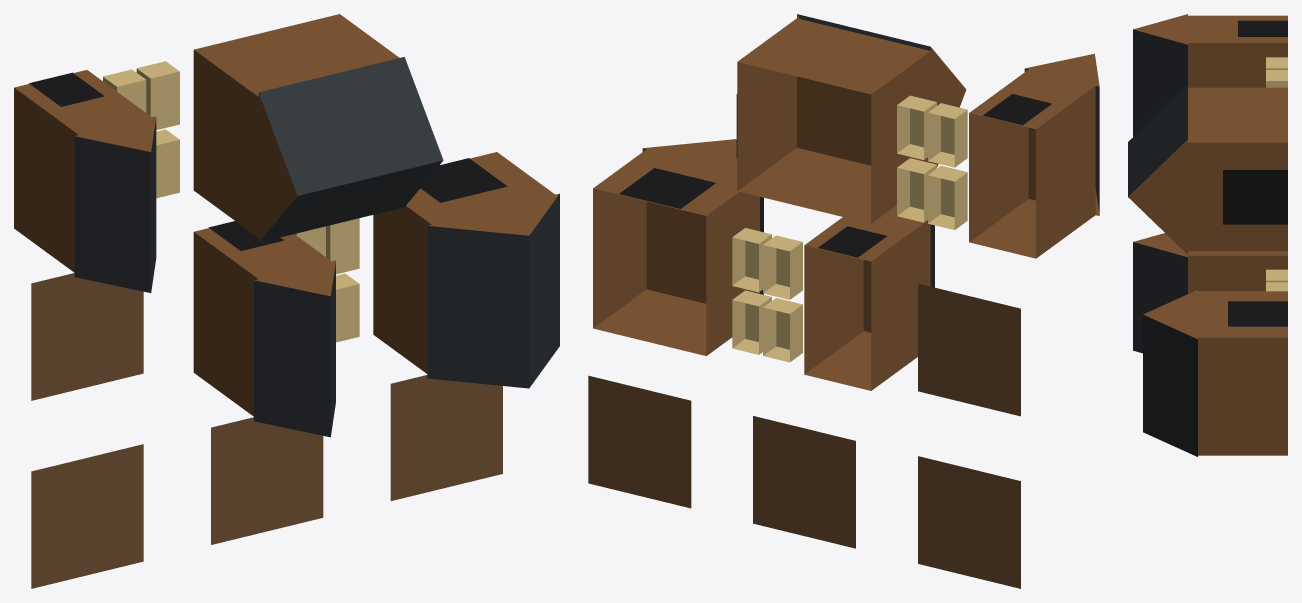
The model's file is construction_2.glb.
The picture shows the model from 3 angles, left to right: view 1: azimuth 30°, elevation 25°; view 2: azimuth 150°, elevation 25°; view 3: azimuth 270°, elevation 25°; orthographic projection. The views are drawn at different scales.
Parts seen in each view (by area): view 1: t12_g11.002, t21_g13.002, t02_g12.002, t11_g12.002, t00_g15.002, t20_g14.002, t01_g15.002, t10_g14.002; view 2: t12_g11.002, t02_g12.002, t21_g13.002, t11_g12.002, t20_g14.002, t00_g15.002, t01_g15.002, t10_g14.002; view 3: t12_g11.002, t21_g13.002, t02_g12.002, t11_g12.002.
Boxes of the visible parts, x1,y1,x2,y2 form: t12_g11.002: [193, 14, 443, 242]; t21_g13.002: [373, 152, 559, 388]; t02_g12.002: [14, 61, 179, 292]; t11_g12.002: [193, 218, 359, 437]; t00_g15.002: [31, 444, 143, 588]; t20_g14.002: [390, 375, 502, 500]; t01_g15.002: [31, 273, 143, 400]; t10_g14.002: [211, 417, 323, 544]; t12_g11.002: [736, 14, 966, 223]; t02_g12.002: [897, 53, 1099, 258]; t21_g13.002: [593, 139, 763, 355]; t11_g12.002: [732, 205, 934, 390]; t20_g14.002: [588, 375, 691, 508]; t00_g15.002: [918, 456, 1020, 588]; t01_g15.002: [918, 283, 1020, 416]; t10_g14.002: [753, 416, 855, 548]; t12_g11.002: [1128, 84, 1287, 254]; t21_g13.002: [1143, 289, 1287, 456]; t02_g12.002: [1133, 14, 1287, 136]; t11_g12.002: [1133, 233, 1287, 353].
Size of the model in its own units: 43.9 by 43.06 by 16.
